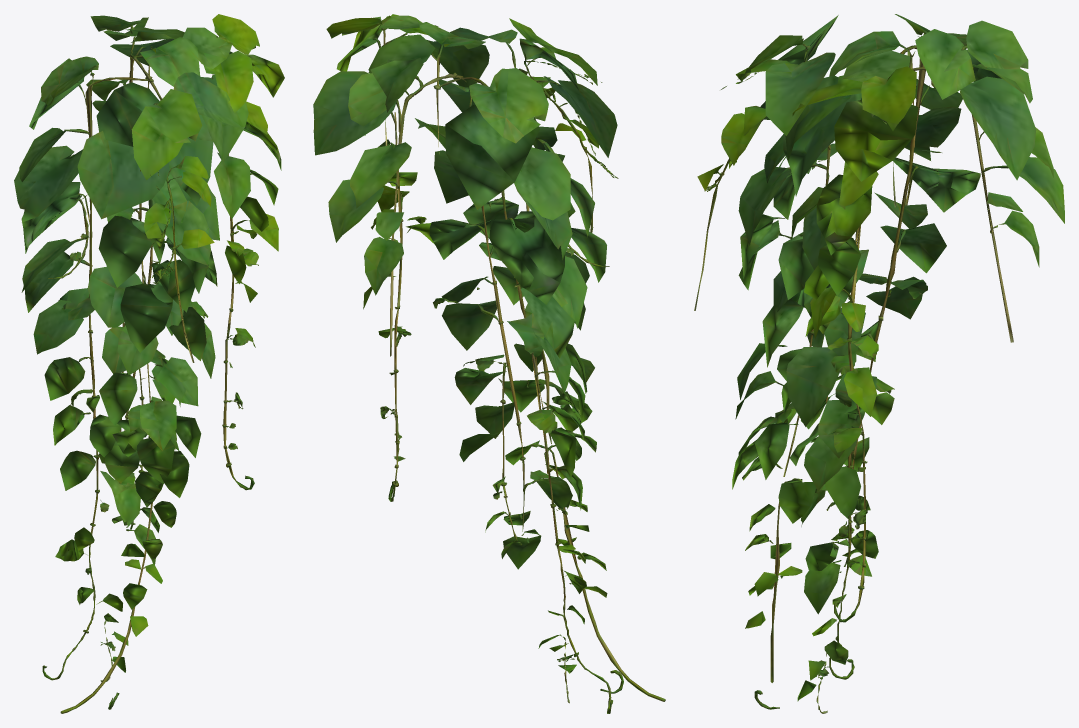
File: vine-branch.lod0.glb
3 renders of one model, left to right at view 1: azimuth 30°, elevation 25°; view 2: azimuth 150°, elevation 25°; view 3: azimuth 270°, elevation 25°, orthographic. The views are drawn at different scales.
Parts seen in each view (by area): view 1: Object_4; view 2: Object_4; view 3: Object_4.
Boxes of the visible parts, x1,y1,x2,y2 form: Object_4: [14, 14, 284, 713]; Object_4: [313, 14, 665, 713]; Object_4: [694, 14, 1064, 713].
Bounding box in the file's own units: 1.29 × 3 × 1.37.
1 material, 1 textured.
